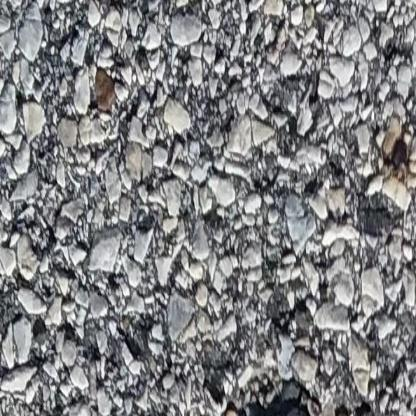Cracks: (203, 384, 349, 416)
